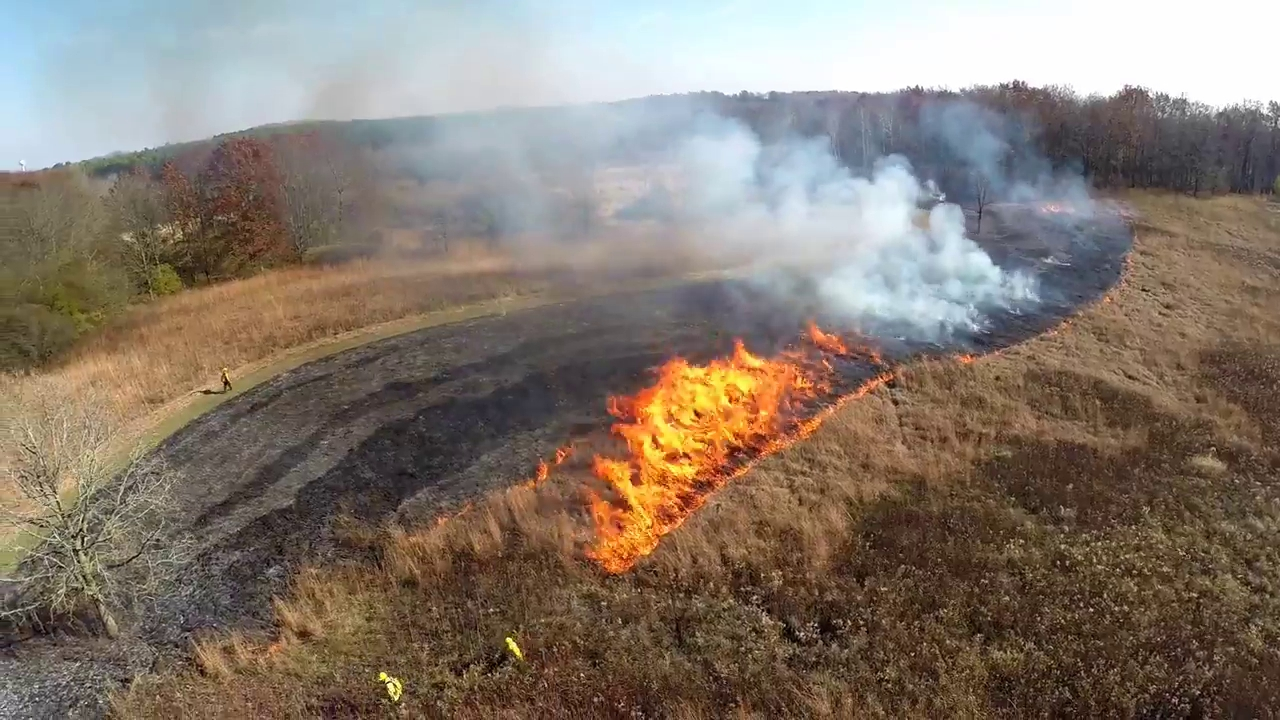forest_fire: (586, 322, 894, 572), (526, 446, 571, 486)
